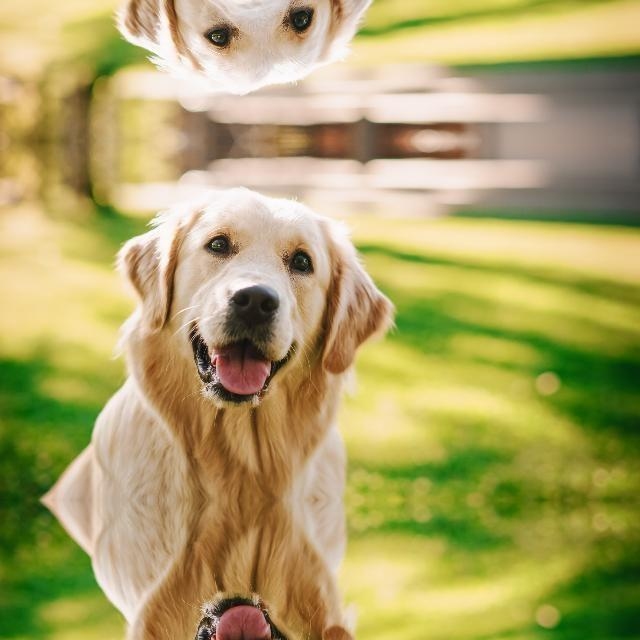dog: (77, 172, 416, 500), (76, 500, 415, 640), (76, 0, 415, 107)
